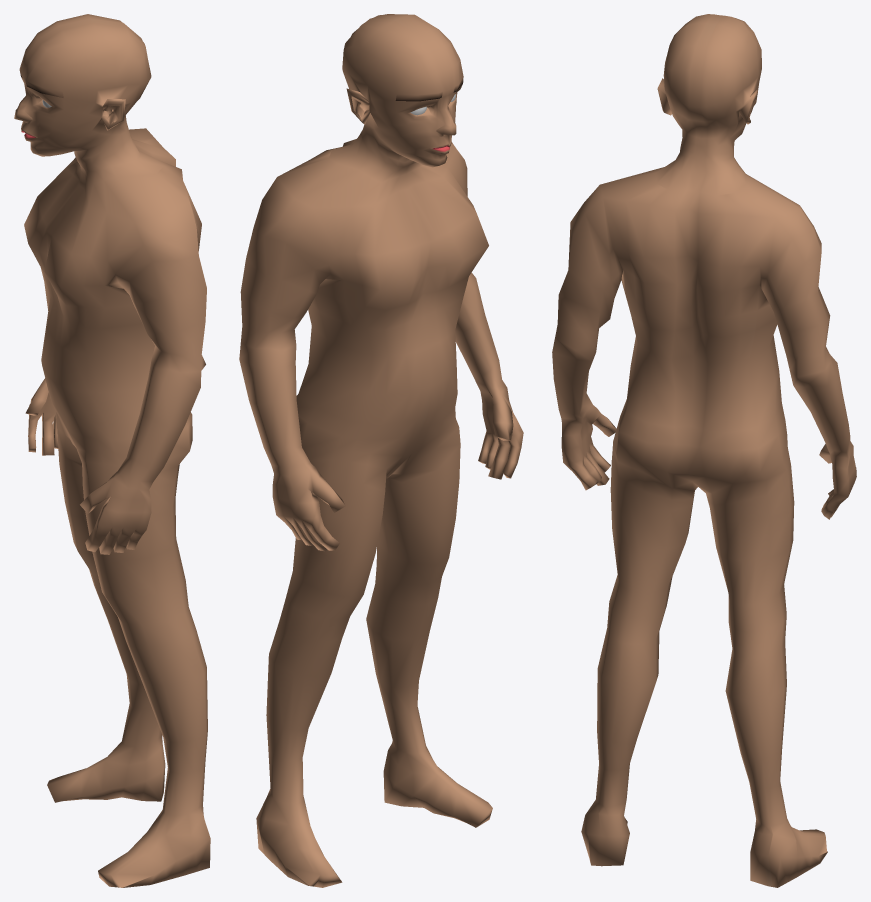
File: boneco6.glb
The picture shows the model from 3 angles, left to right: view 1: azimuth 30°, elevation 25°; view 2: azimuth 150°, elevation 25°; view 3: azimuth 270°, elevation 25°; orthographic projection. The views are drawn at different scales.
Visible parts, largest first — view 1: Plane.007; view 2: Plane.007; view 3: Plane.007.
Boxes of the visible parts, x1=… form: Plane.007: x1=14, y1=14, x2=210, y2=887; Plane.007: x1=239, y1=14, x2=523, y2=887; Plane.007: x1=552, y1=14, x2=856, y2=887.
Size of the model in its own units: 0.7793 by 3.55 by 1.21.
